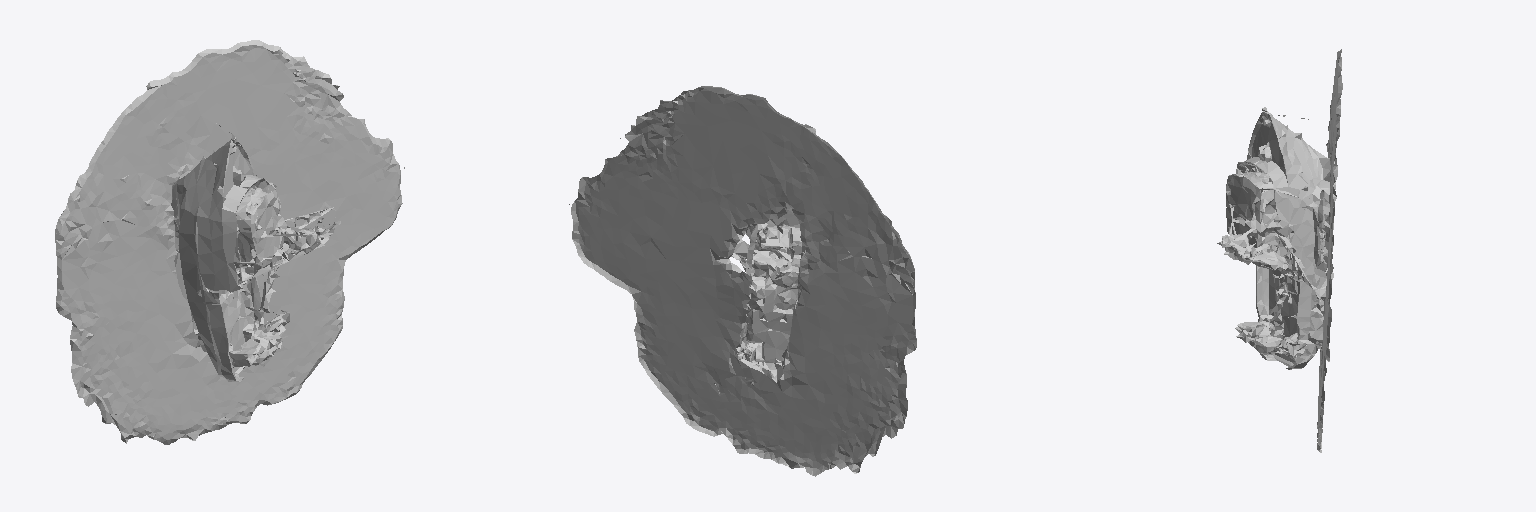
File: model_phy.obj
3 views of the same model, side by side, from view 1: azimuth 30°, elevation 25°; view 2: azimuth 150°, elevation 25°; view 3: azimuth 270°, elevation 25° (orthographic).
Visible parts, largest first — view 1: model; view 2: model; view 3: model.
Boxes of the visible parts, x1=… form: model: x1=55, y1=40, x2=404, y2=444; model: x1=569, y1=86, x2=916, y2=476; model: x1=1217, y1=49, x2=1342, y2=452.
Size of the model in its own units: 25.21 by 25.98 by 7.86.